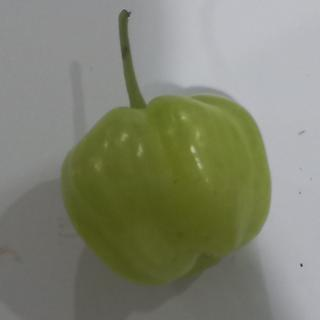Grade-B: (58, 83, 278, 286)
